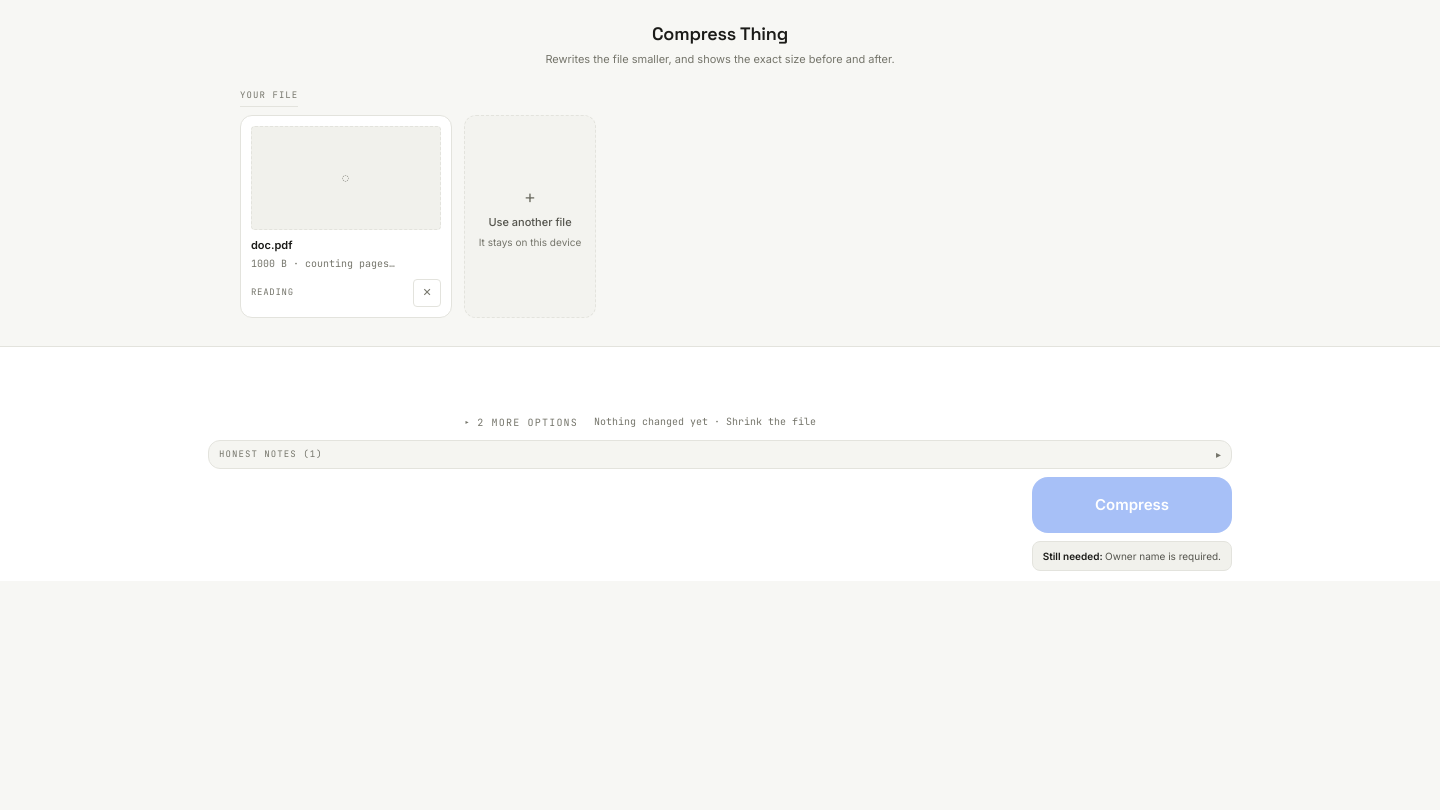
Test: PdfToolPanel › promises the outcome first and groups the fields once a file exists
Expected: the text "size before and after" is shown, [545,52,895,66]
Expected: the text "Quality" is not shown
Click the button "▸ 2 more options" at x=521, y=422, box [464,415,578,430]
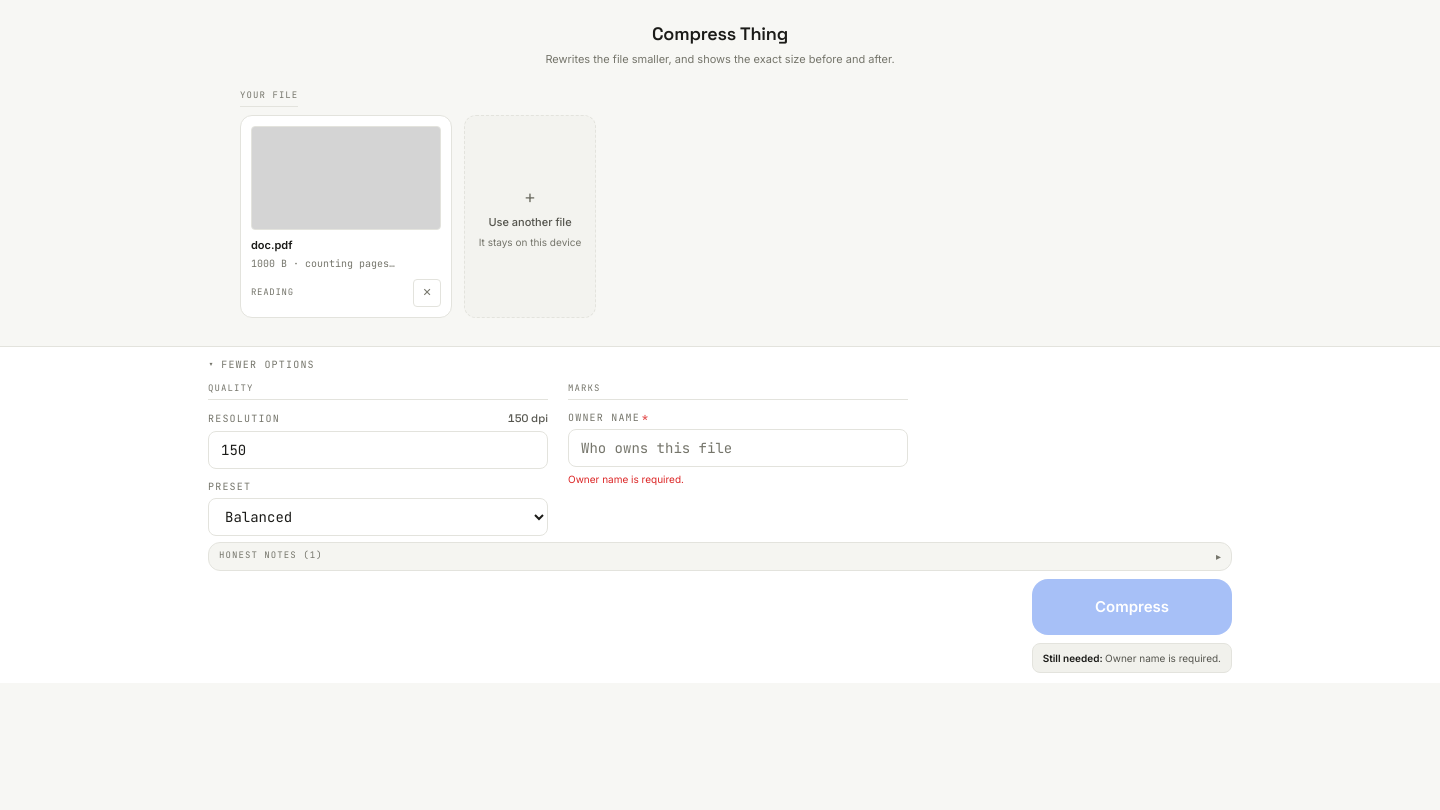
Expected: the heading "Quality" is shown, [208,382,548,400]
Expected: the heading "Marks" is shown, [568,382,908,400]
